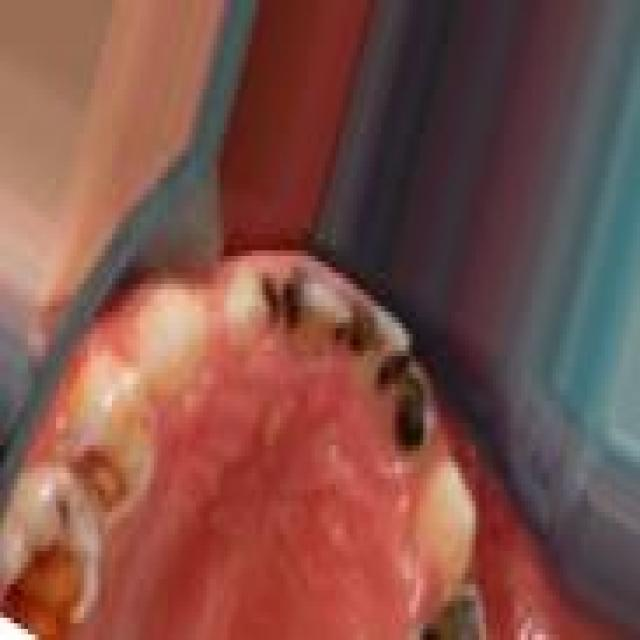caries: (3, 540, 81, 640), (283, 266, 357, 350), (74, 432, 138, 524), (348, 298, 410, 389), (387, 369, 442, 467), (412, 573, 488, 640), (229, 266, 281, 348), (38, 488, 76, 537)
